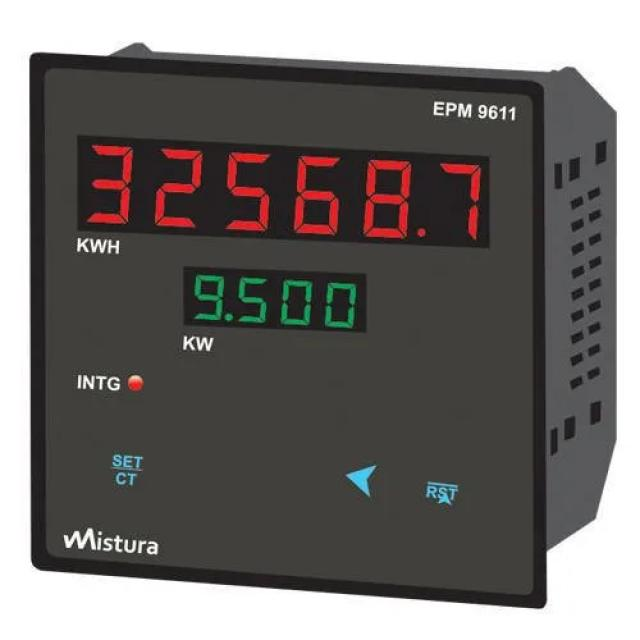display: (78, 134, 493, 254), (187, 267, 367, 334)
frame: (86, 140, 484, 242), (194, 274, 359, 331), (474, 98, 520, 126)
gauge: (29, 40, 618, 610)
